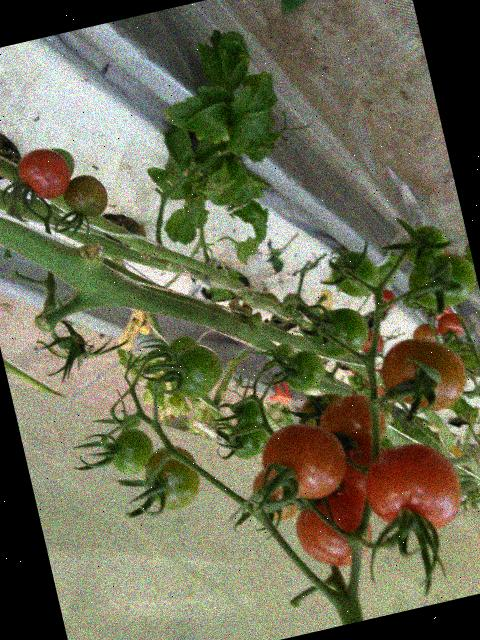l_fully_ripened: (356, 434, 470, 544), (290, 486, 379, 576), (327, 439, 401, 521), (14, 142, 75, 204), (435, 309, 470, 341)
l_green: (403, 246, 480, 314), (138, 440, 206, 515), (306, 302, 373, 361), (165, 341, 227, 403), (327, 245, 384, 302), (105, 424, 158, 478), (226, 415, 276, 464), (399, 220, 450, 268), (279, 346, 328, 394), (163, 332, 203, 367), (231, 398, 269, 431), (48, 143, 77, 179), (273, 342, 296, 364)
l_half_ripened: (254, 413, 354, 510), (373, 327, 472, 420), (314, 387, 391, 457), (248, 461, 312, 525), (59, 170, 111, 223), (294, 388, 351, 431), (410, 319, 441, 346)
